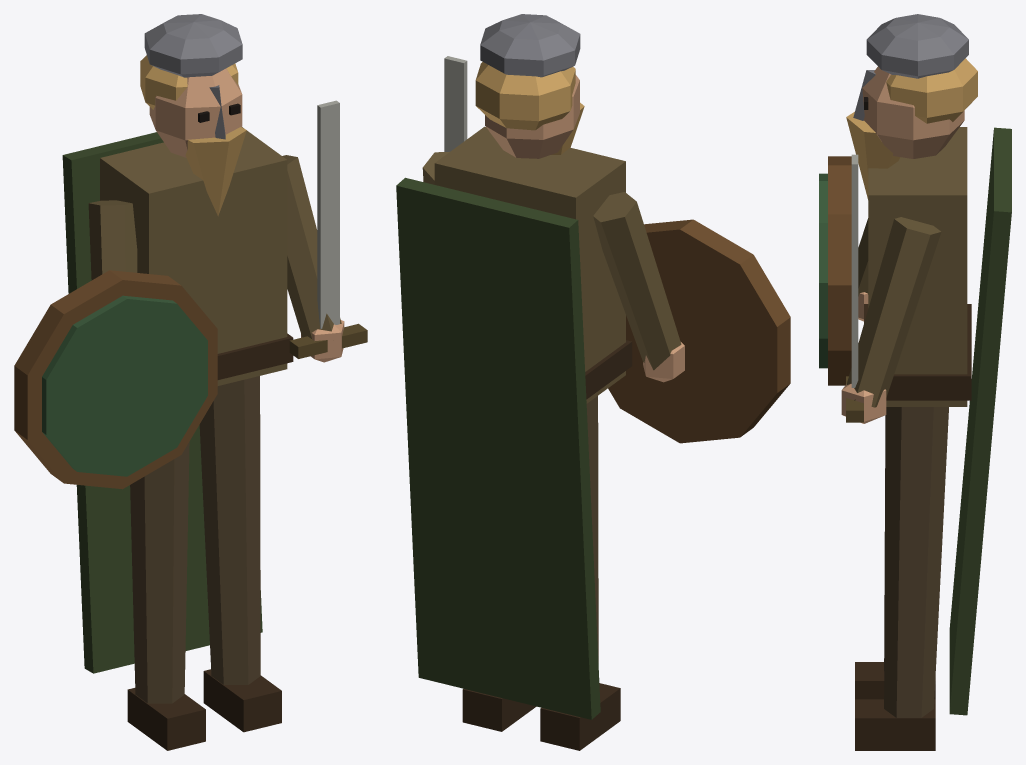
Rendered from sachsenkrieger.glb.
3 renders of one model, left to right at view 1: azimuth 30°, elevation 25°; view 2: azimuth 150°, elevation 25°; view 3: azimuth 270°, elevation 25°, orthographic. The views are drawn at different scales.
Size of the model in its own units: 0.9073 by 1.72 by 0.4295.
Materials: 1 (1 with a texture image).
